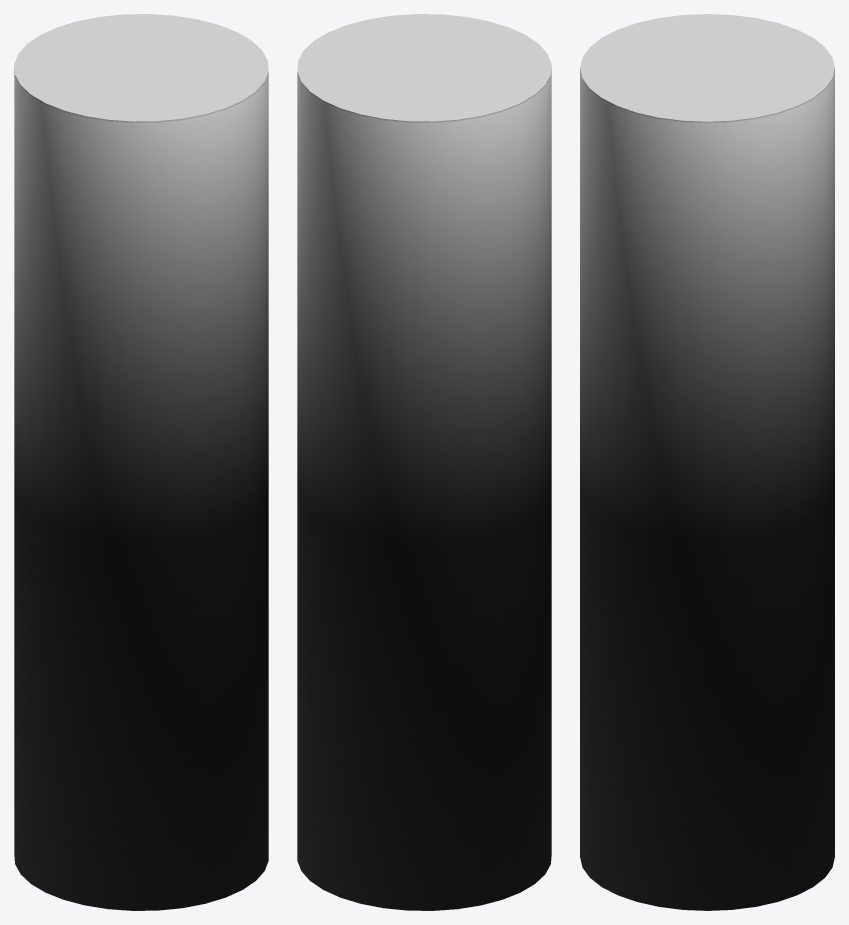
Rendered from hole.fbx.
The picture shows the model from 3 angles, left to right: view 1: azimuth 30°, elevation 25°; view 2: azimuth 150°, elevation 25°; view 3: azimuth 270°, elevation 25°; orthographic projection.
Parts seen in each view (by area): view 1: hole, hole_mask; view 2: hole, hole_mask; view 3: hole, hole_mask.
Boxes of the visible parts, <box> form: hole: <box>14,67,268,910</box>; hole_mask: <box>14,14,268,121</box>; hole: <box>297,67,551,910</box>; hole_mask: <box>297,14,551,121</box>; hole: <box>580,68,834,910</box>; hole_mask: <box>580,14,834,121</box>.
Bounding box in the file's own units: 2 × 6.83 × 2.
